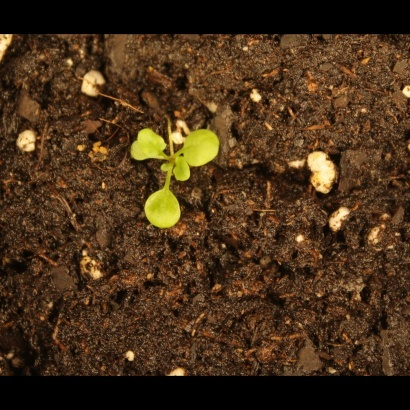leaf: (136, 185, 189, 239), (180, 123, 224, 170), (136, 127, 170, 163), (166, 154, 196, 192), (121, 138, 150, 168)
